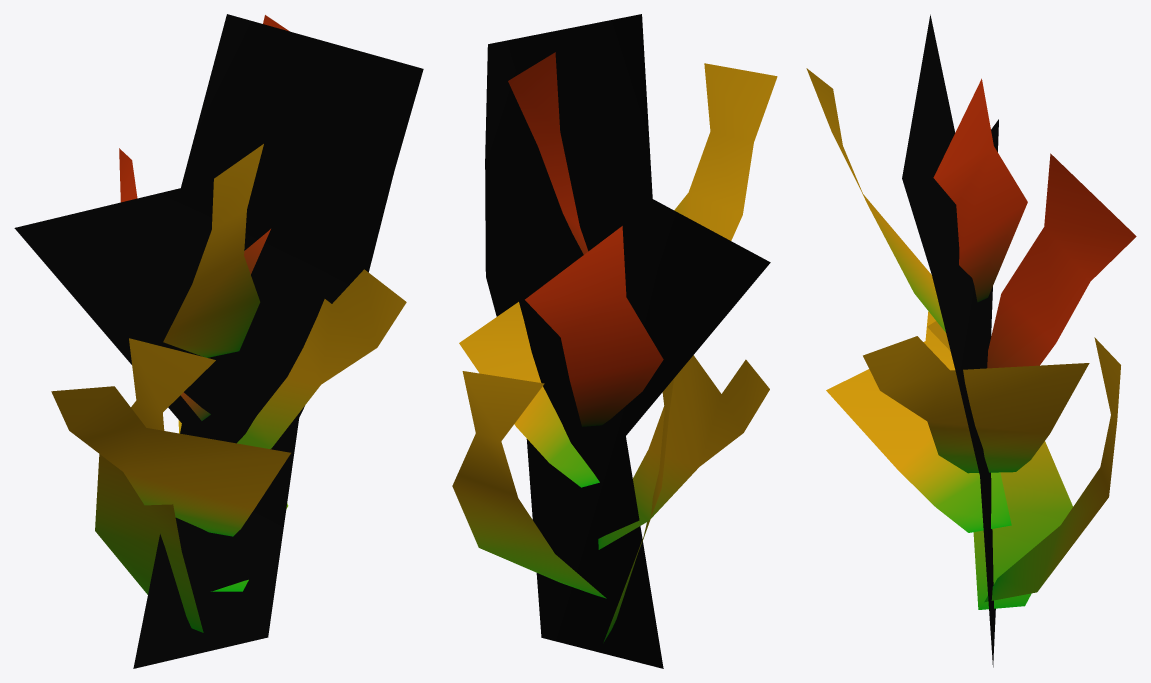
The model's file is Var4Hi26.fbx.
The picture shows the model from 3 angles, left to right: view 1: azimuth 30°, elevation 25°; view 2: azimuth 150°, elevation 25°; view 3: azimuth 270°, elevation 25°; orthographic projection. The views are drawn at different scales.
Parts seen in each view (by area): view 1: bend1; view 2: bend1; view 3: bend1.
Boxes of the visible parts, left/top/right/bottom form: bend1: left=14, top=14, right=423, bottom=668; bend1: left=452, top=14, right=777, bottom=668; bend1: left=806, top=14, right=1136, bottom=667.
Bounding box in the file's own units: 1.3 × 2.31 × 1.12.
